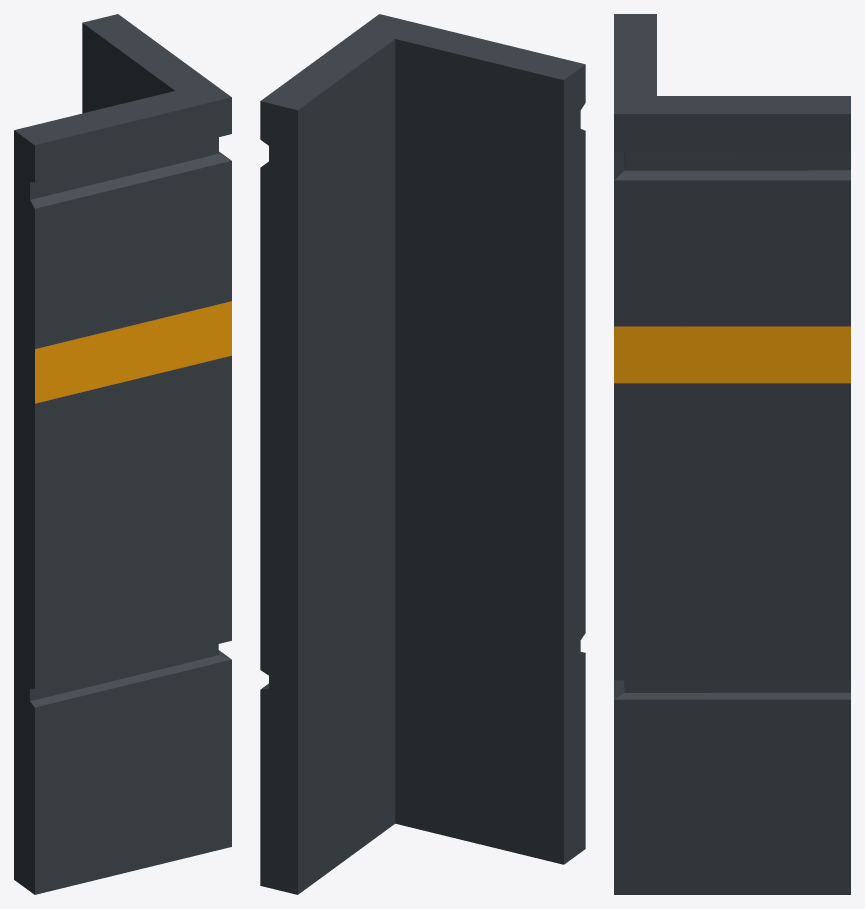
Rendered from NLIOutCorner.glb.
The picture shows the model from 3 angles, left to right: view 1: azimuth 30°, elevation 25°; view 2: azimuth 150°, elevation 25°; view 3: azimuth 270°, elevation 25°; orthographic projection. The views are drawn at different scales.
Visible parts, largest first — view 1: OutCorner; view 2: OutCorner; view 3: OutCorner.
Boxes of the visible parts, bbox=[...] form: OutCorner: bbox=[14, 14, 231, 894]; OutCorner: bbox=[260, 14, 585, 894]; OutCorner: bbox=[614, 14, 850, 894].
Bounding box in the file's own units: 1.1 × 4 × 1.1.
2 materials, 1 textured.
